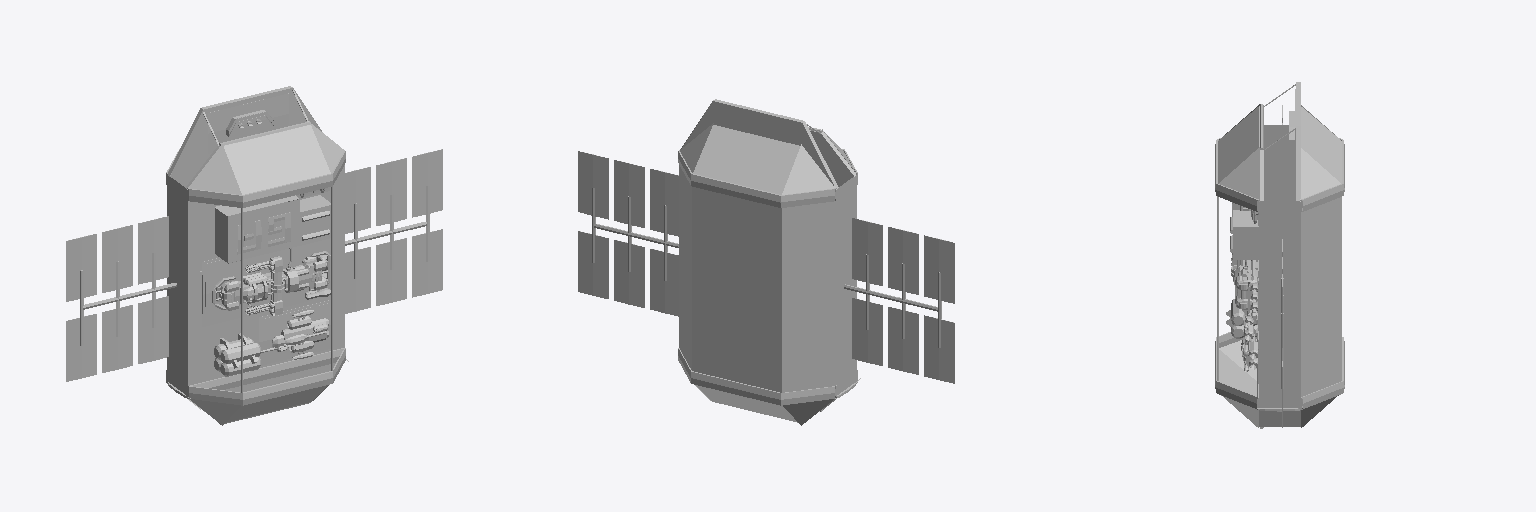
The model's file is starblast-1537692226738.obj.
3 views of the same model, side by side, from view 1: azimuth 30°, elevation 25°; view 2: azimuth 150°, elevation 25°; view 3: azimuth 270°, elevation 25° (orthographic).
Bounding box in the file's own units: 8.4 × 6.45 × 2.5.